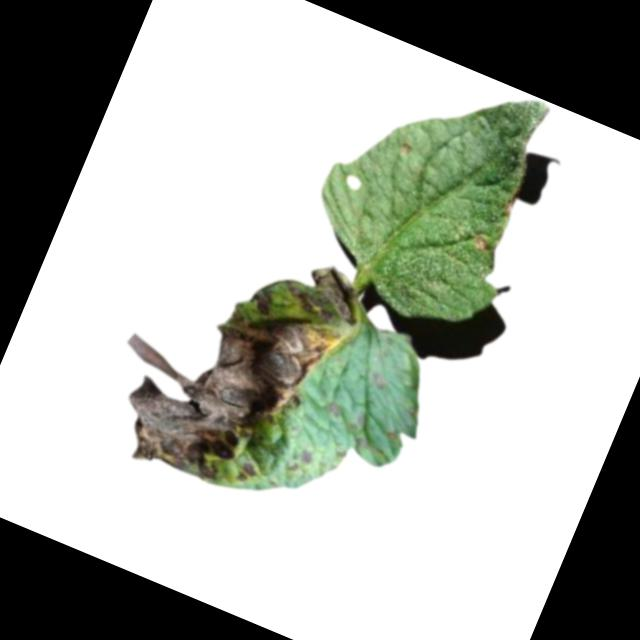Early_blight: (83, 205, 372, 519), (500, 187, 521, 218), (469, 229, 493, 253)
